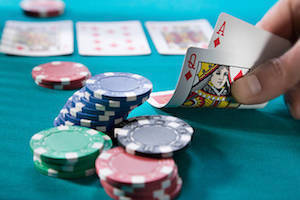AceOfDiamonds: (203, 11, 293, 57)
QueenOfDiamonds: (169, 45, 277, 127)
